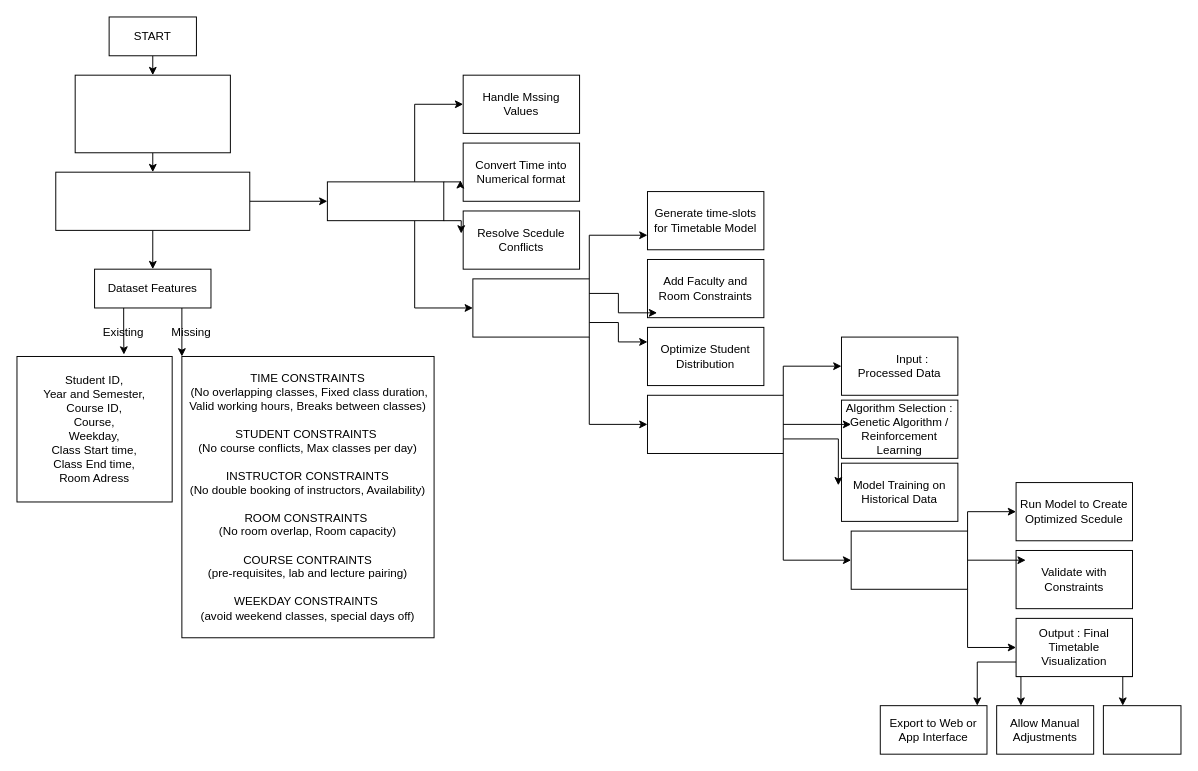
The diagram is 1198 pixels wide and 771 high, and some of its shapes have lost their labels. Each missing label, with the centre of its shape:
"AI Model Training : Optimization Algorithms" belongs at [715,423].
"Data Collection : Students Timetable Dataset" belongs at [152,200].
"Data Processing" belongs at [385,201].
"END" belongs at [1141,729].
"Feature Engineering" belongs at [530,307].
"Inference : Generate Timetable" belongs at [909,559].
"Problem Definitiion : University Timetable Optimization" belongs at [152,113].
